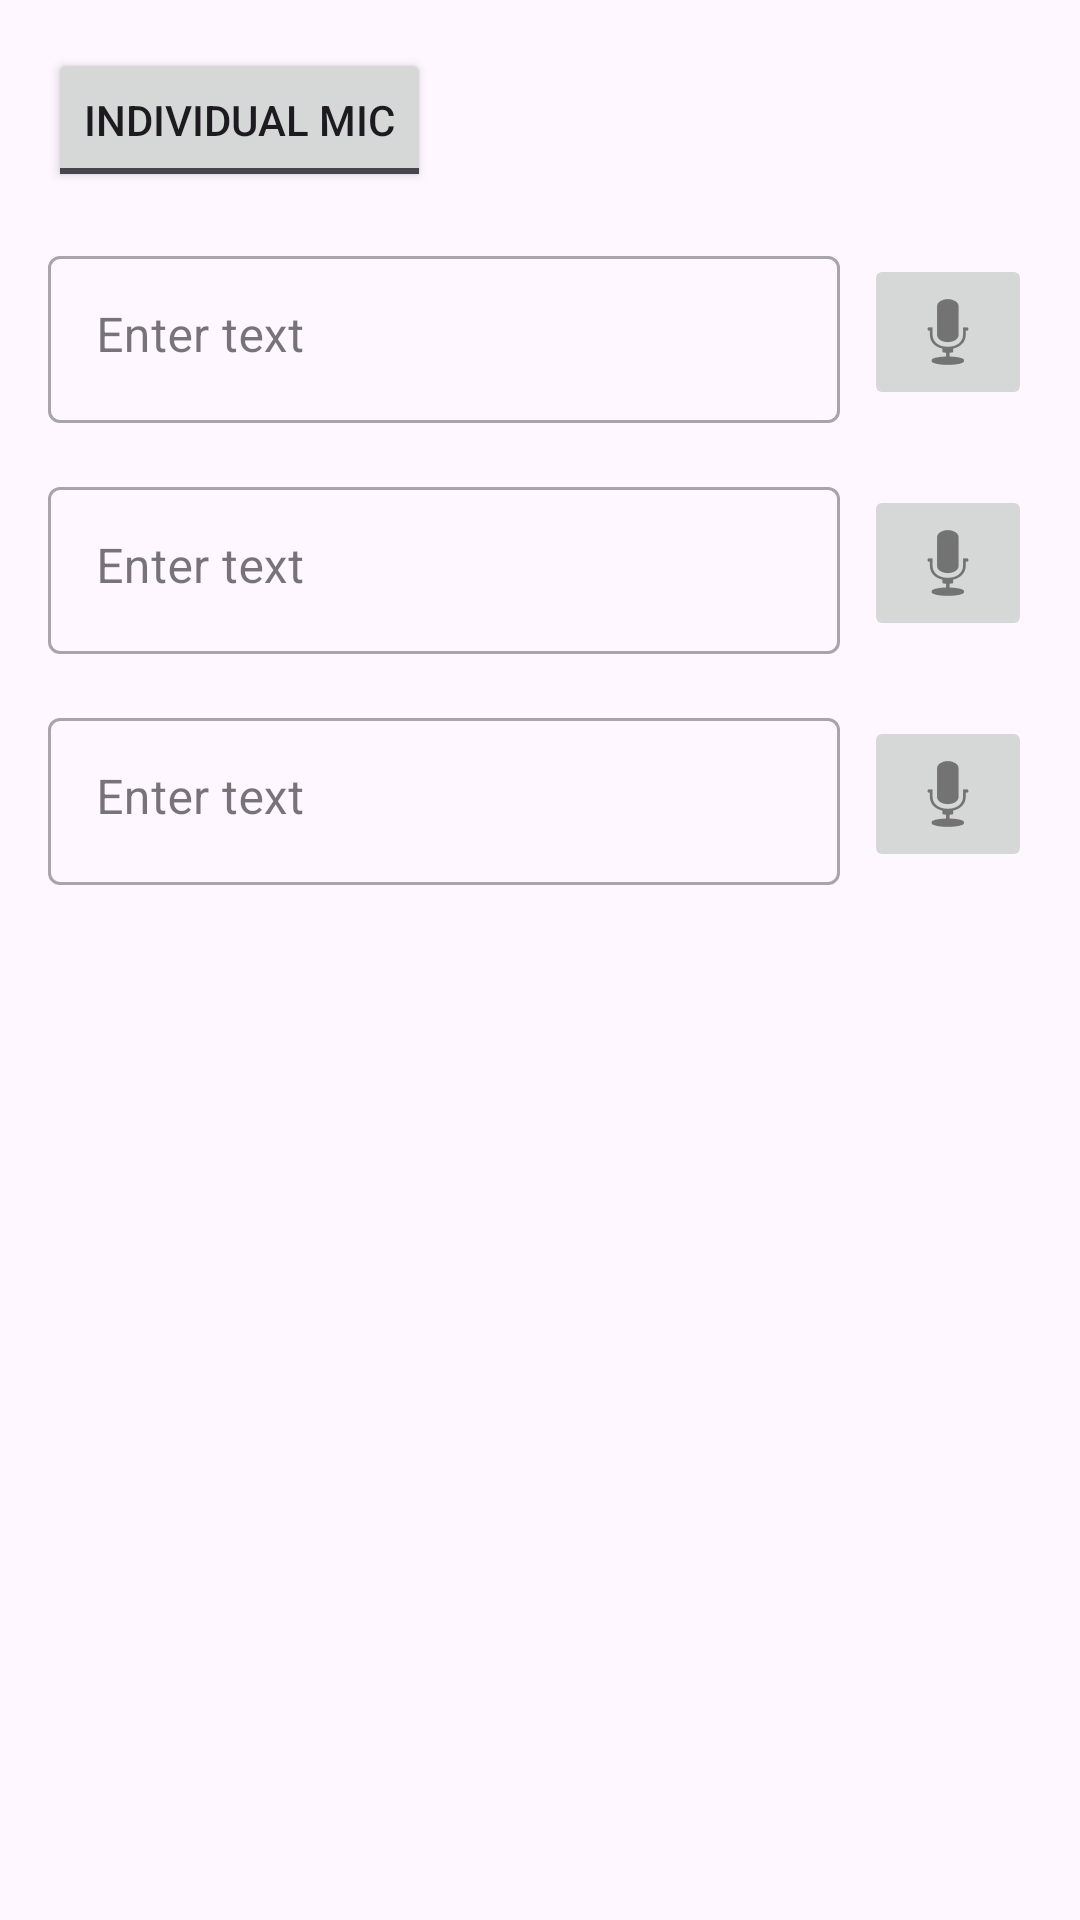

Named icons in this screenshot (1080 × 1920) and their bounding boxes, (x1, y1, x2, y2):
Mic: (876, 272, 1020, 392), (876, 503, 1020, 623), (876, 734, 1020, 854)
